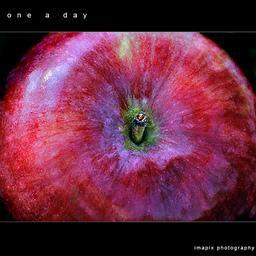apple: (0, 31, 255, 219)
